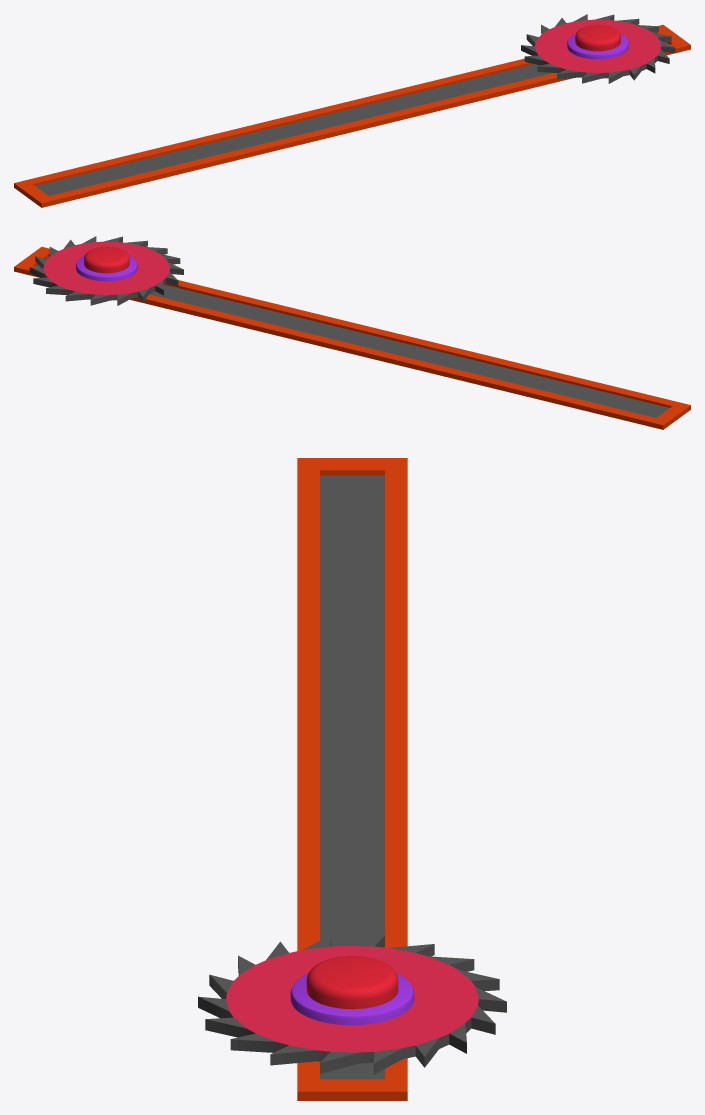
File: M_Trapv2.fbx
The picture shows the model from 3 angles, top to bottom: view 1: azimuth 30°, elevation 25°; view 2: azimuth 150°, elevation 25°; view 3: azimuth 270°, elevation 25°; orthographic projection. The views are drawn at different scales.
Visible parts, largest first — view 1: Plane.004, Plane.001; view 2: Plane.004, Plane.001; view 3: Plane.004, Plane.001.
Part boxes in pixels (x1,y1,x2,y2): Plane.004: [14, 24, 690, 207]; Plane.001: [521, 14, 675, 83]; Plane.004: [14, 246, 690, 429]; Plane.001: [29, 236, 183, 305]; Plane.004: [297, 458, 407, 1100]; Plane.001: [198, 935, 506, 1074].
Bounding box in the file's own units: 371 × 14.1 × 76.36.
